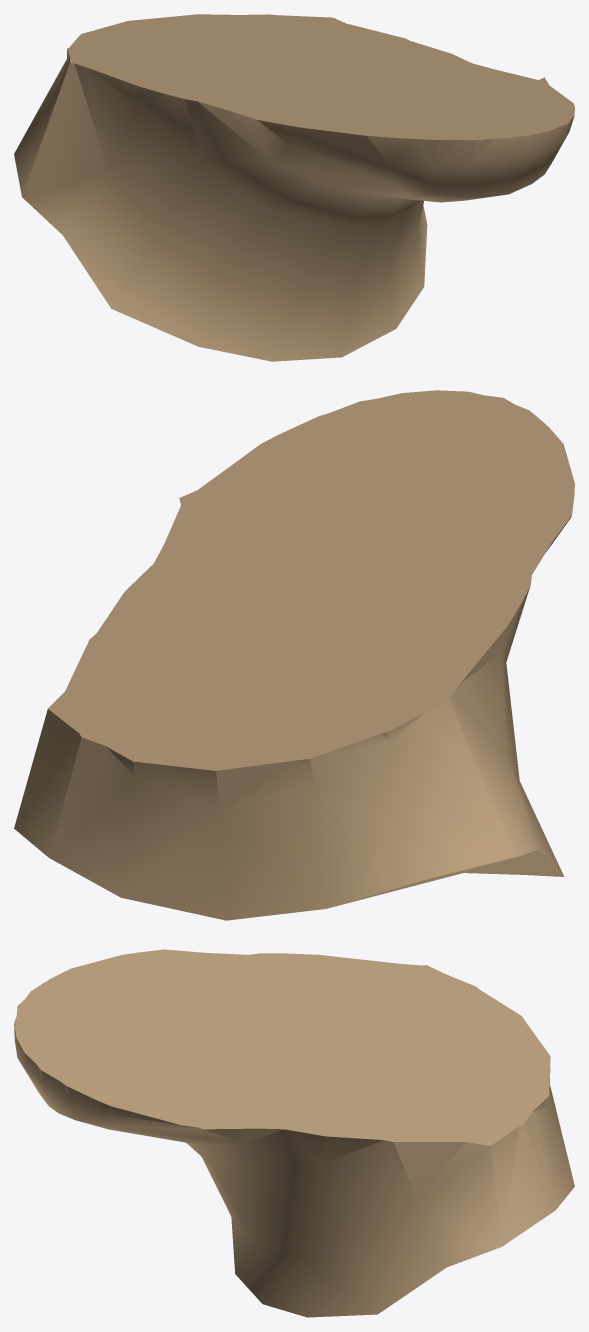
Rendered from Thief_Neck.fbx.
3 views of the same model, one above another, from view 1: azimuth 30°, elevation 25°; view 2: azimuth 150°, elevation 25°; view 3: azimuth 270°, elevation 25° (orthographic). The views are drawn at different scales.
Visible parts, largest first — view 1: T_Neck; view 2: T_Neck; view 3: T_Neck.
Boxes of the visible parts, x1=… form: T_Neck: x1=14, y1=14, x2=574, y2=361; T_Neck: x1=14, y1=390, x2=574, y2=920; T_Neck: x1=14, y1=949, x2=574, y2=1317.
Bounding box in the file's own units: 11.6 × 8.41 × 15.47.
